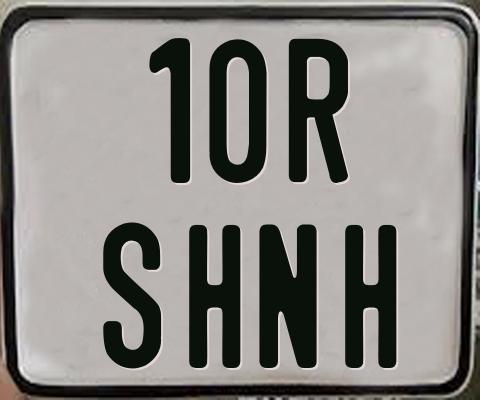0: (208, 37, 266, 186)
1: (147, 36, 191, 183)
H: (342, 223, 399, 372), (188, 222, 244, 368)
N: (256, 223, 318, 372)
R: (289, 36, 350, 186)
S: (101, 221, 161, 373)
